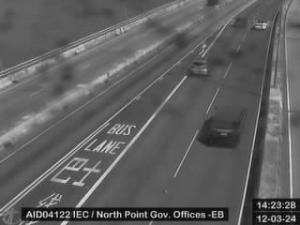vehicle: (209, 104, 243, 146), (192, 56, 208, 78), (253, 20, 269, 32), (234, 18, 244, 28)
